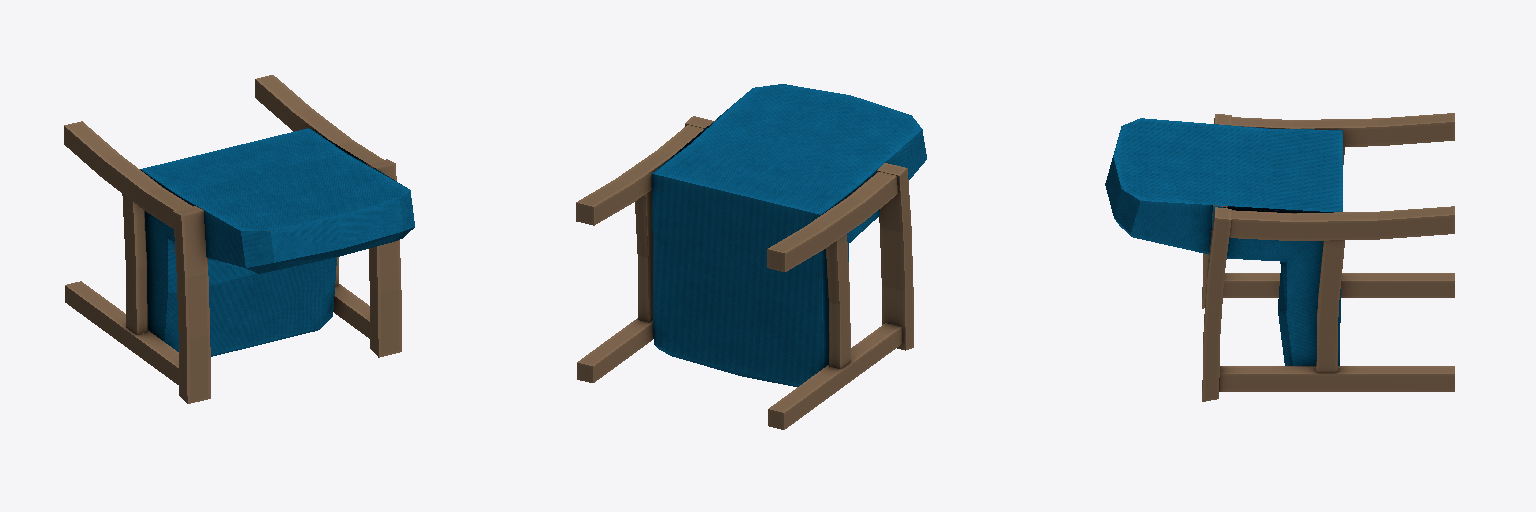
The picture shows the model from 3 angles: view 1: azimuth 30°, elevation 25°; view 2: azimuth 150°, elevation 25°; view 3: azimuth 270°, elevation 25°; orthographic projection.
Visible parts, largest first — view 1: Chair; view 2: Chair; view 3: Chair.
Boxes of the visible parts, box(x1,y1,x2,y2) form: Chair: box(64, 75, 414, 403); Chair: box(576, 84, 926, 429); Chair: box(1105, 113, 1454, 401).
Bounding box in the file's own units: 70.83 × 62.78 × 99.98.
Materials: 1 (1 with a texture image).